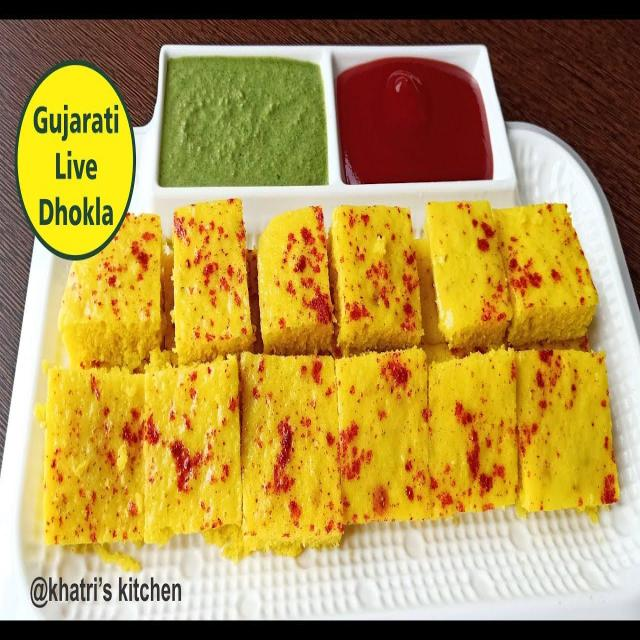dhokla: (42, 198, 619, 537)
